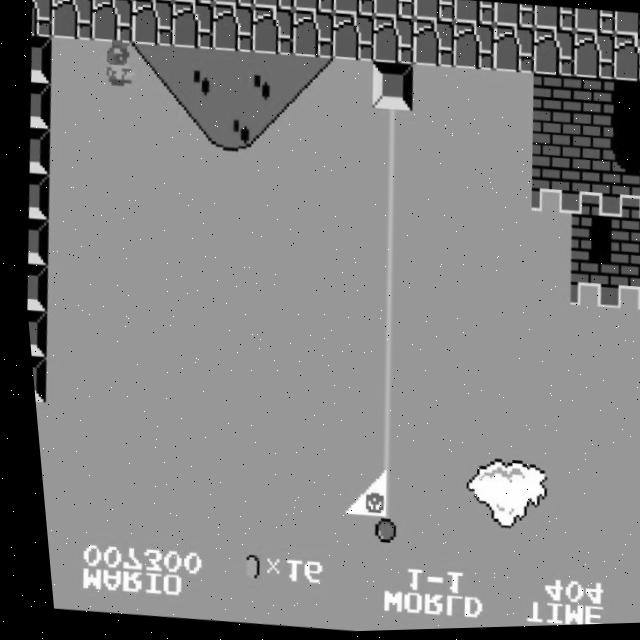11- little_mario: (90, 37, 142, 91)
17- undestructible_block: (207, 4, 257, 55), (287, 10, 337, 61), (327, 13, 377, 64), (367, 16, 417, 67), (447, 23, 497, 74), (167, 1, 216, 52), (247, 7, 296, 58), (408, 20, 457, 71), (488, 26, 537, 77), (528, 30, 577, 81), (568, 33, 617, 84), (127, 0, 177, 48), (87, 0, 136, 45), (47, 0, 96, 41), (608, 36, 640, 87), (451, 1, 496, 29), (491, 4, 536, 32), (531, 7, 576, 35), (571, 11, 616, 39), (411, 0, 456, 25), (28, 0, 56, 37), (371, 0, 416, 22), (611, 14, 640, 42), (330, 0, 375, 18), (291, 0, 336, 15), (251, 0, 295, 12), (211, 0, 255, 9), (171, 0, 215, 6), (132, 0, 175, 3)
7- goal_pole: (351, 473, 401, 524), (356, 336, 406, 387), (361, 199, 411, 250), (364, 108, 414, 159), (350, 518, 399, 569), (358, 290, 407, 341), (353, 427, 402, 477), (360, 245, 408, 296), (355, 382, 403, 432), (363, 154, 411, 204)
9- hard_block: (366, 63, 415, 114), (24, 80, 53, 129), (19, 218, 48, 266), (22, 127, 51, 175), (18, 262, 46, 311), (26, 35, 54, 84), (21, 172, 49, 220), (22, 309, 44, 357), (25, 355, 42, 402)
